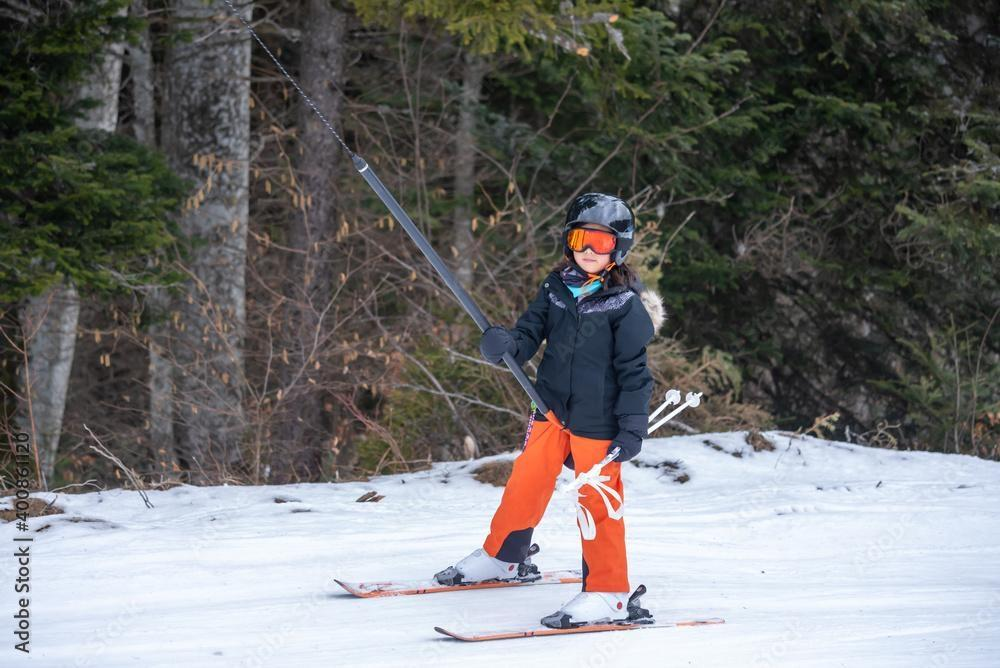Skis: (322, 549, 761, 651)
